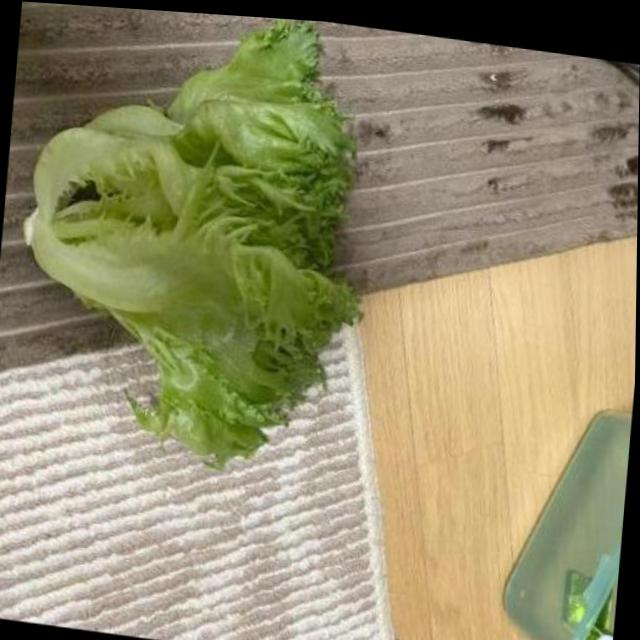Mature: (24, 19, 357, 468)
